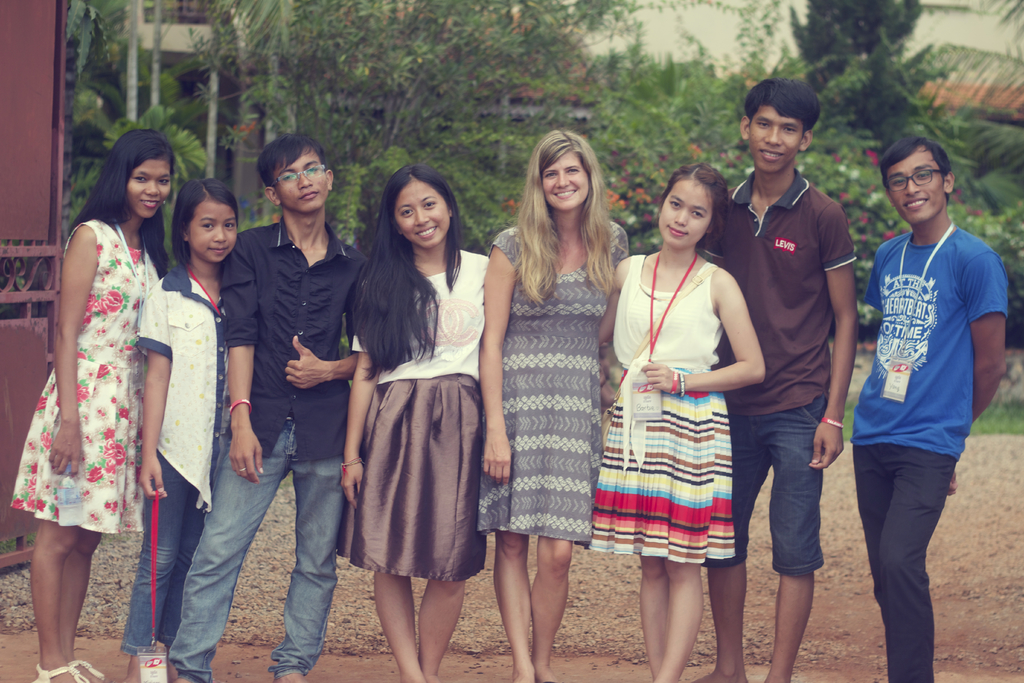Human-face: (884, 149, 943, 225), (661, 177, 719, 247), (390, 180, 449, 247), (749, 105, 805, 169), (190, 192, 240, 260), (278, 145, 326, 213), (129, 155, 173, 218), (544, 150, 590, 209)
